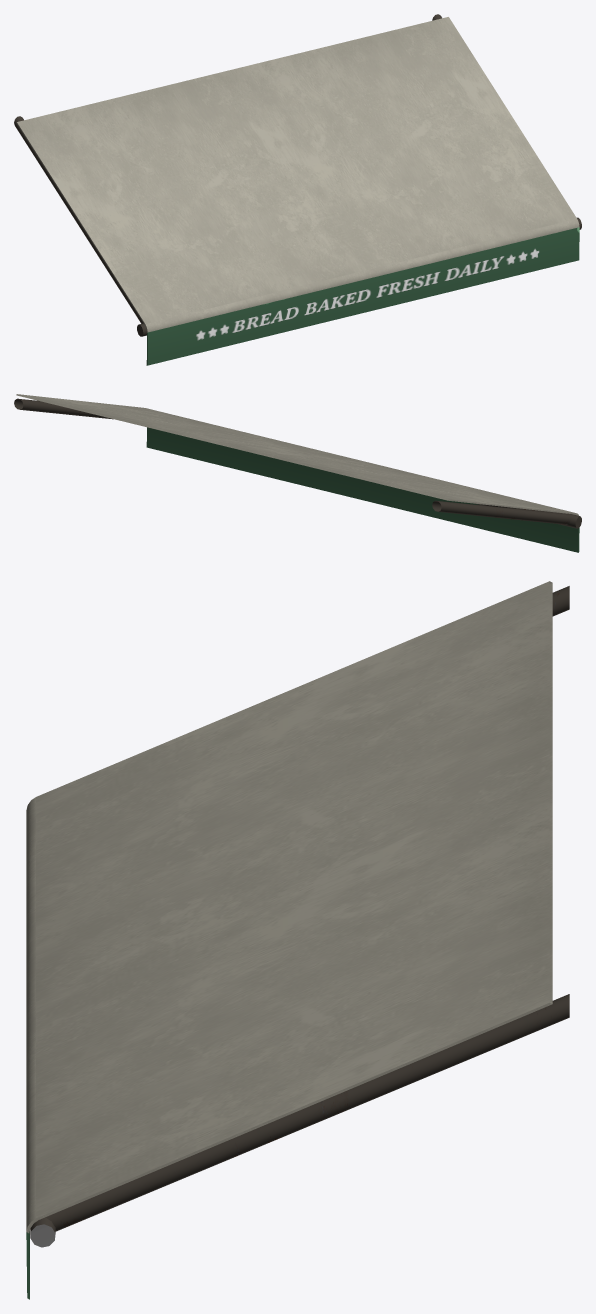
Rendered from Prop_Awning_Bakery.gltf.
3 views of the same model, one above another, from view 1: azimuth 30°, elevation 25°; view 2: azimuth 150°, elevation 25°; view 3: azimuth 270°, elevation 25° (orthographic). The views are drawn at different scales.
Parts seen in each view (by area): view 1: Prop_Awning_Bakery; view 2: Prop_Awning_Bakery; view 3: Prop_Awning_Bakery.
Part boxes in pixels (x1,y1,x2,y2): Prop_Awning_Bakery: (14,14,581,365); Prop_Awning_Bakery: (14,394,581,552); Prop_Awning_Bakery: (26,581,569,1299).
Size of the model in its own units: 2.85 by 0.9245 by 1.53.
3 materials, 3 textured.
